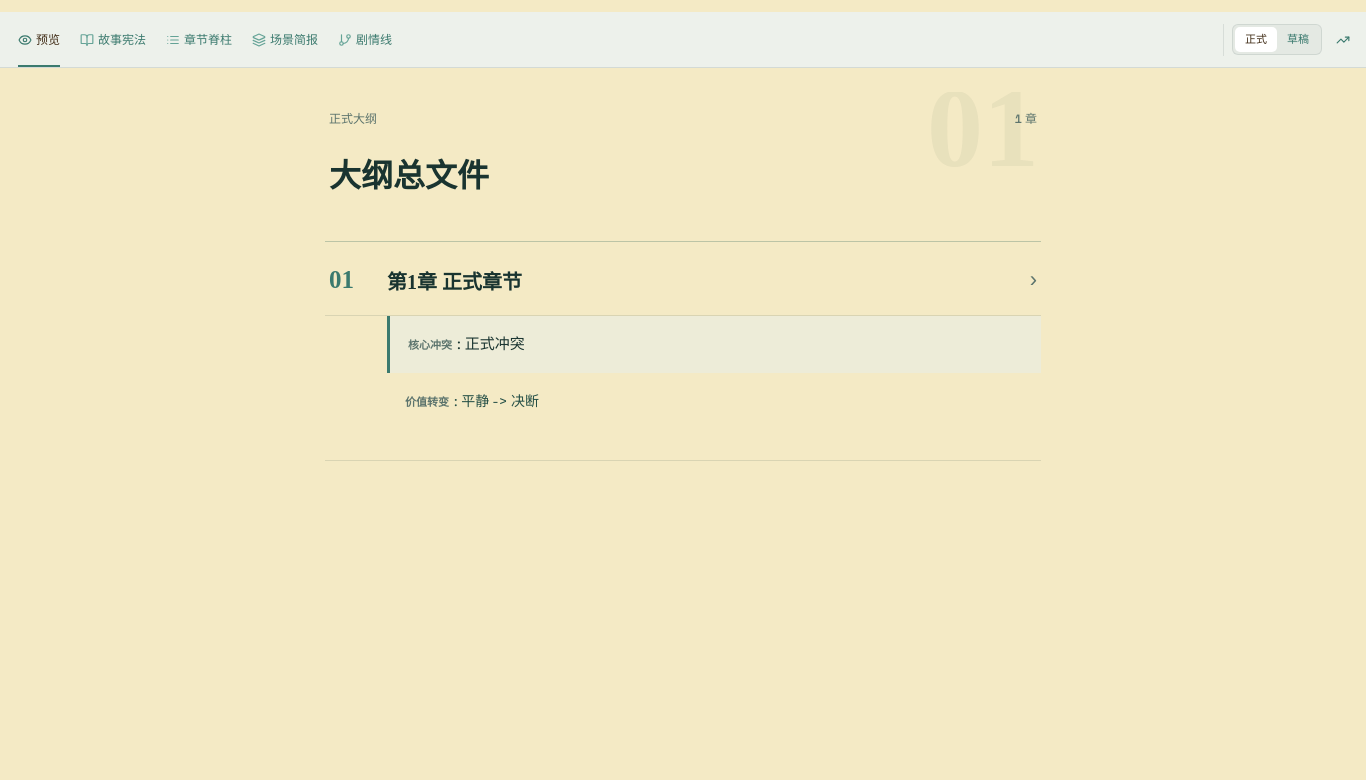
OutlineMasterEditor draft fallback › retains the draft and exposes confirmation and discard failures
Click the button "草稿" at (1298, 40), box x1=1277 y1=27 x2=1319 y2=52
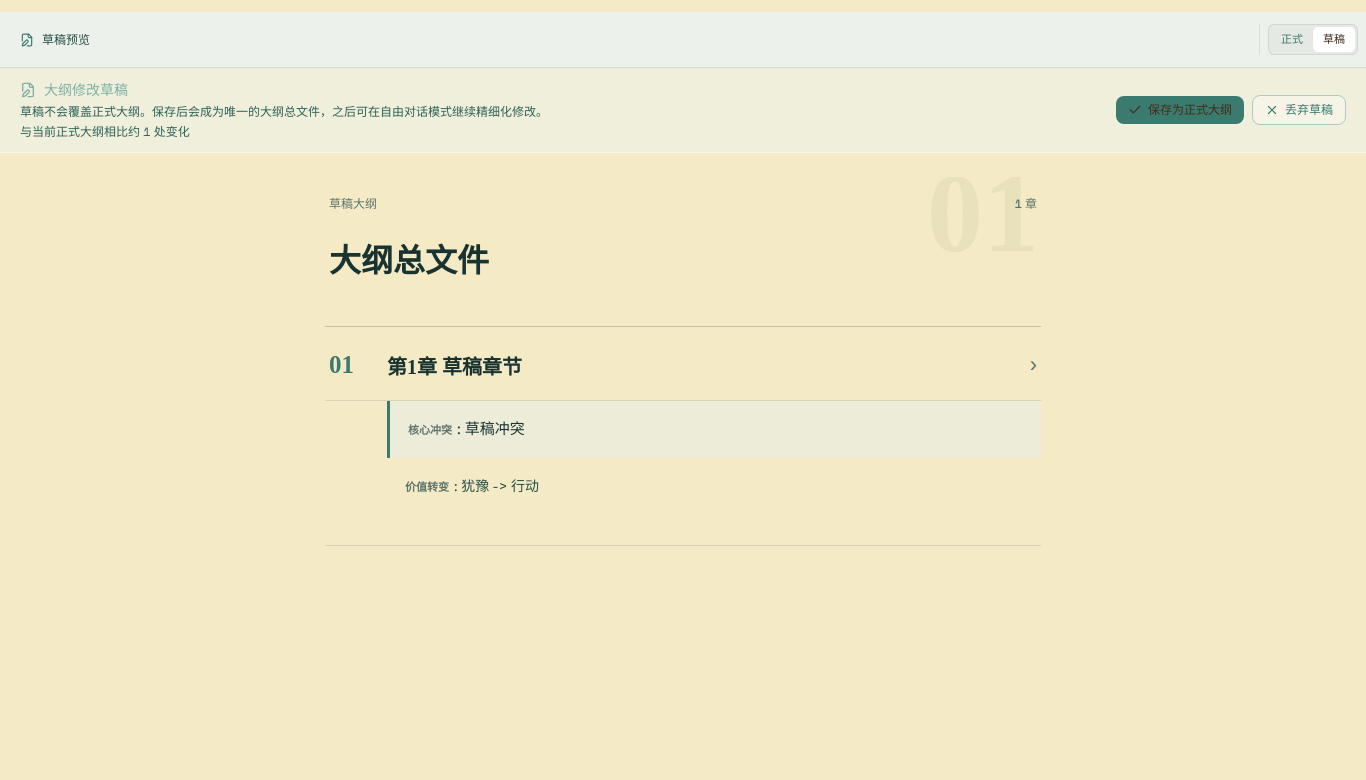
Expected: the text "大纲修改草稿" is shown, x1=20 y1=81 x2=128 y2=99
Click the button "保存为正式大纲" at (1180, 110), box x1=1116 y1=96 x2=1244 y2=124
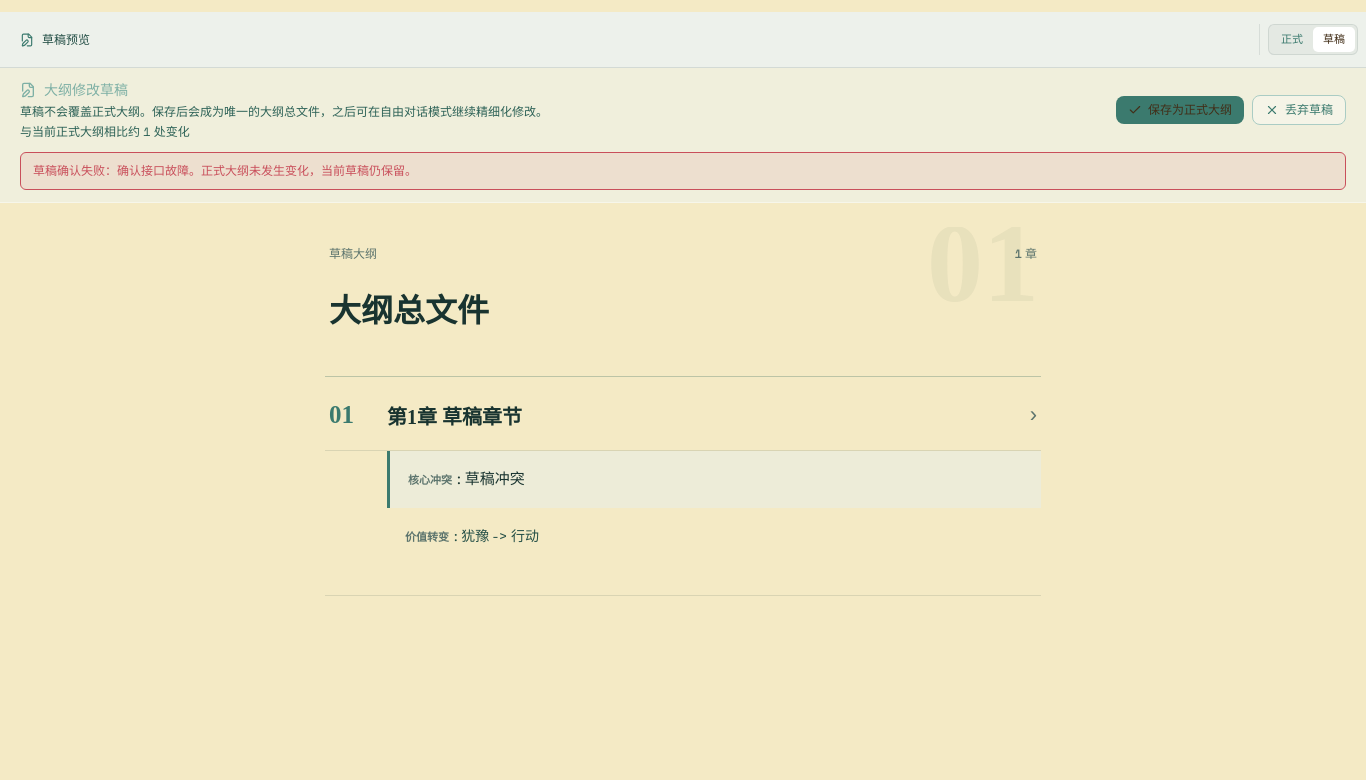
Expected: the heading "第1章 草稿章节" is shown, x1=325 y1=377 x2=1041 y2=451
Expected: the message reads "草稿确认失败：确认接口故障。正式大纲未发生变化，当前草稿仍保留。", x1=33 y1=163 x2=417 y2=179
Click the button "丢弃草稿" at (1299, 110), box x1=1252 y1=95 x2=1346 y2=125
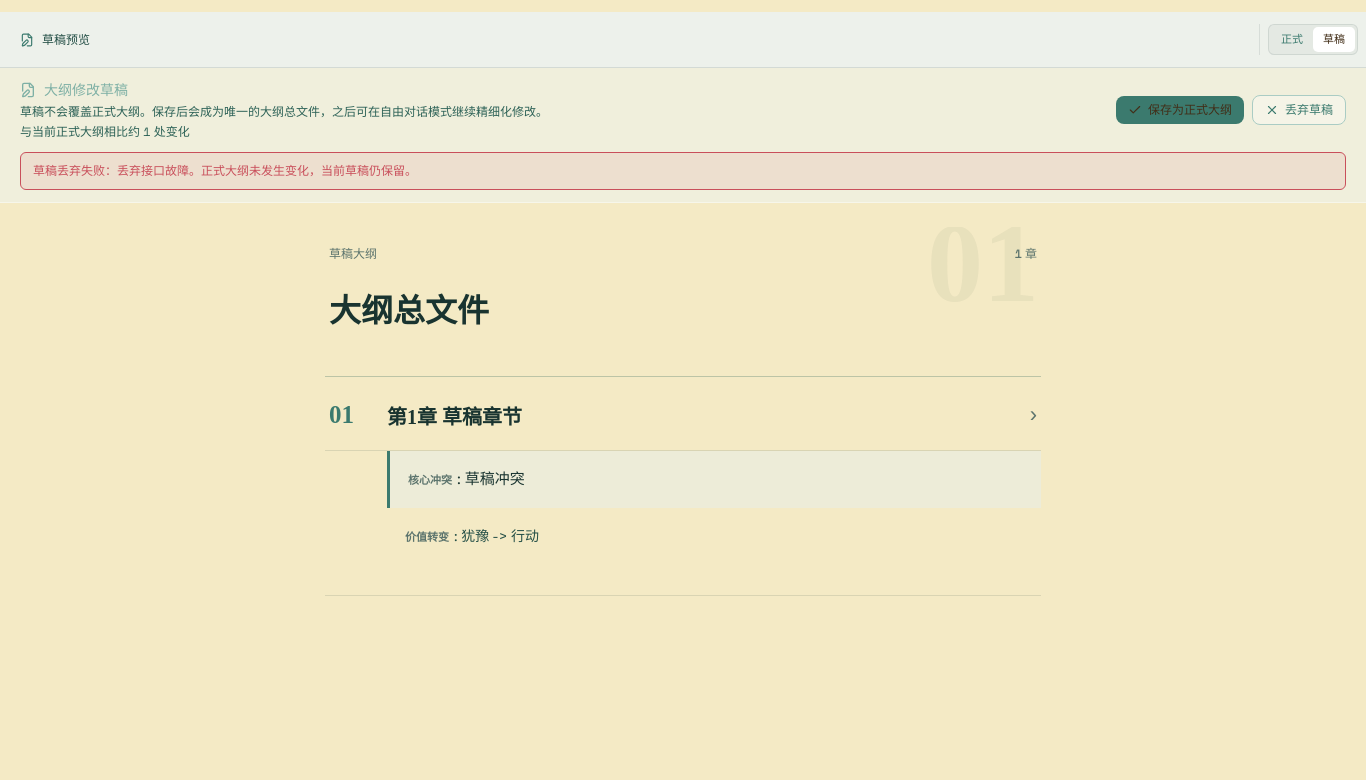
Expected: the heading "第1章 草稿章节" is shown, x1=325 y1=377 x2=1041 y2=451
Expected: the message reads "草稿丢弃失败：丢弃接口故障。正式大纲未发生变化，当前草稿仍保留。", x1=33 y1=163 x2=417 y2=179
